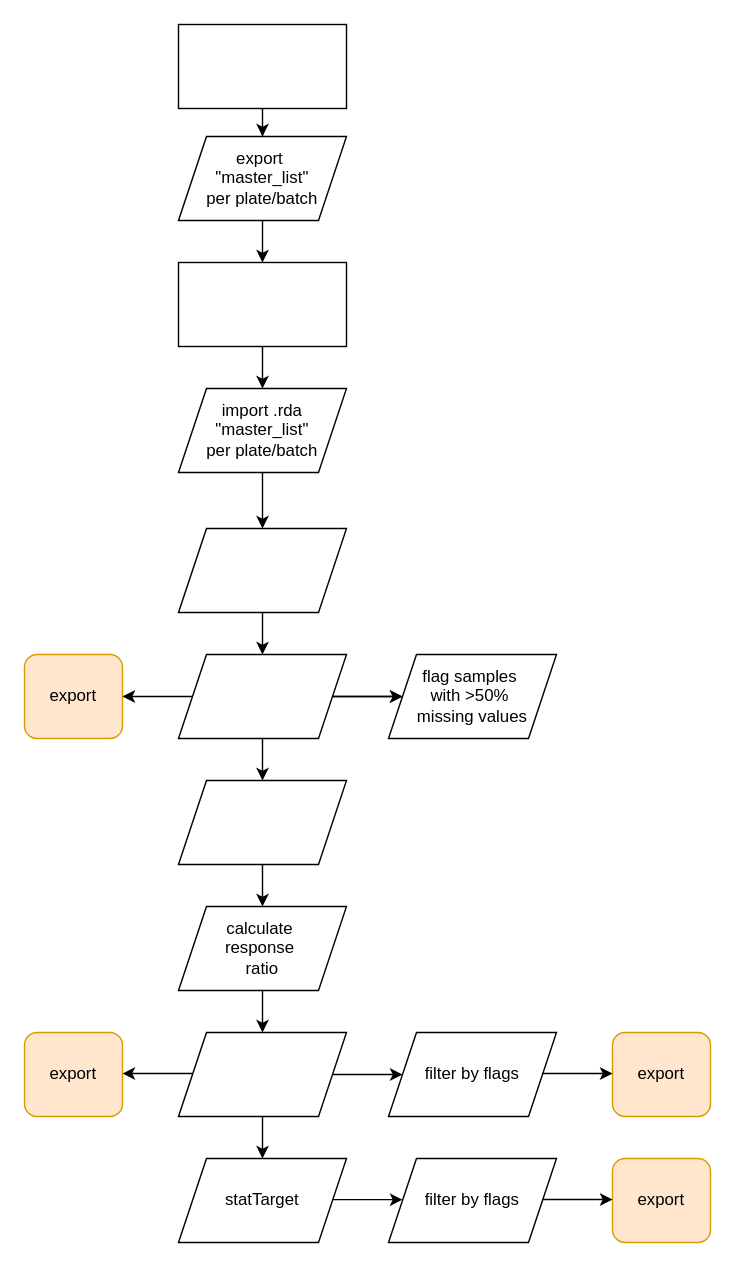
Image size: 735x1267. Some labels were removed from this diagram. The centre of each missing label's shape, as x and y in pixels:
"calculate concentration" goes at point (261, 1073).
"impute missing values [min/2]" goes at point (261, 821).
"QC.checkeR" goes at point (261, 303).
"skylineR" goes at point (261, 65).
"sort data by acquisition timestamp" goes at point (261, 695).
"transpose data from skyline to metabolomics format" goes at point (261, 569).
